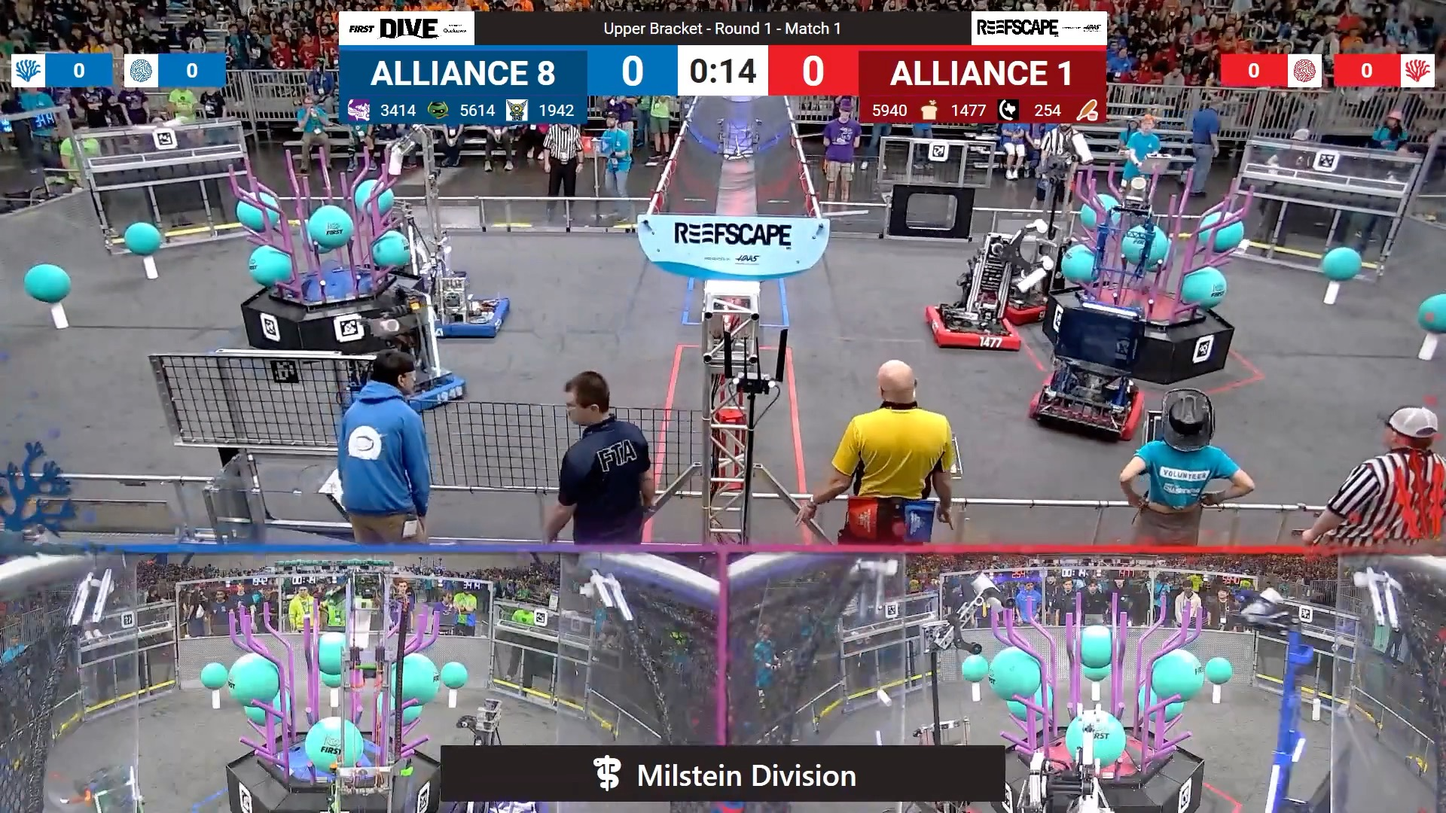bumpers: (357, 356, 480, 429), (1030, 371, 1142, 438), (953, 276, 1051, 329), (924, 302, 1018, 357), (430, 290, 514, 344)
